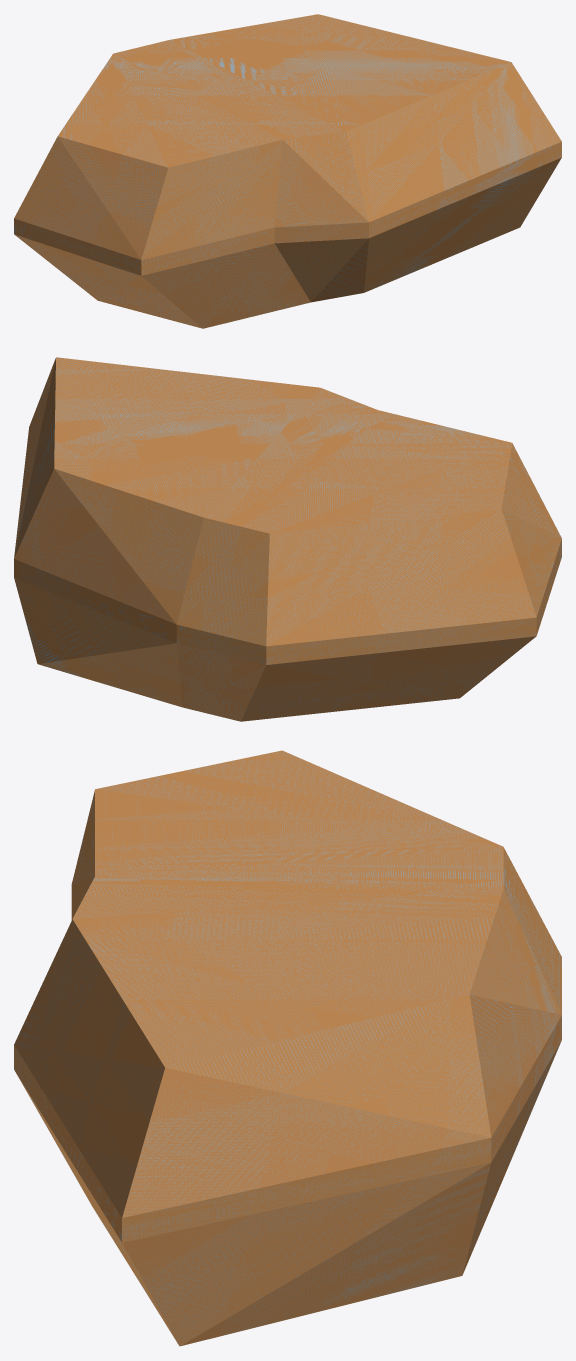
Rendered from Rock_Medium_Flat_Dirt_05.fbx.
3 renders of one model, top to bottom at view 1: azimuth 30°, elevation 25°; view 2: azimuth 150°, elevation 25°; view 3: azimuth 270°, elevation 25°, orthographic. The views are drawn at different scales.
Parts seen in each view (by area): view 1: Model; view 2: Model; view 3: Model.
Boxes of the visible parts, x1,y1,x2,y2 form: Model: (14,14,561,328); Model: (14,357,561,721); Model: (14,750,561,1346).
Size of the model in its own units: 305 by 102 by 189.
